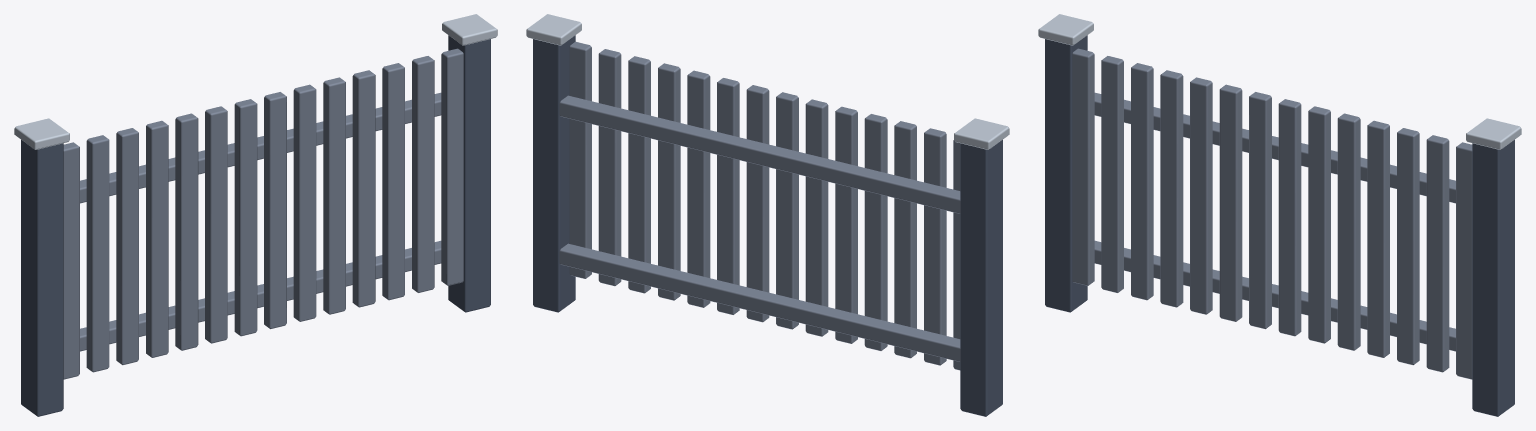
The model's file is garden-fence-lite.glb.
The picture shows the model from 3 angles, left to right: view 1: azimuth 30°, elevation 25°; view 2: azimuth 150°, elevation 25°; view 3: azimuth 330°, elevation 25°; orthographic projection.
Visible parts, largest first — view 1: garden-fence; view 2: garden-fence; view 3: garden-fence.
Part boxes in pixels (x1,y1,x2,y2): garden-fence: (14,14,497,416); garden-fence: (526,14,1009,416); garden-fence: (1038,14,1521,416).
Bounding box in the file's own units: 2 × 1.15 × 0.16.
